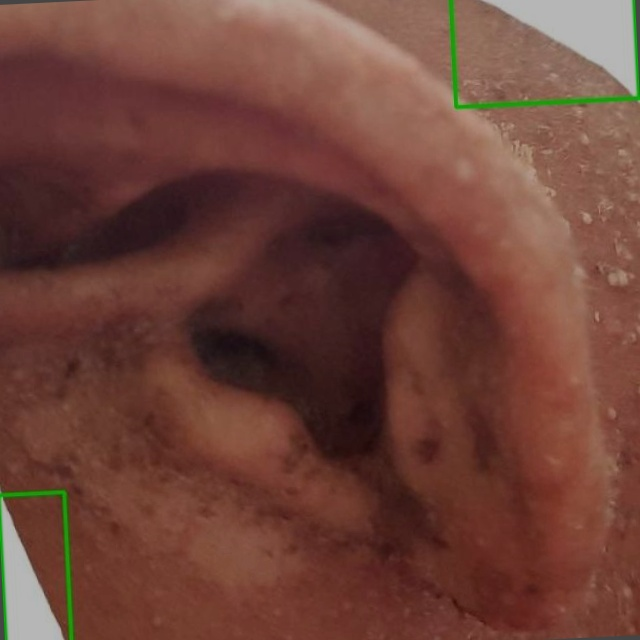Contact Dermatitis: (451, 0, 639, 107), (0, 492, 71, 639)
